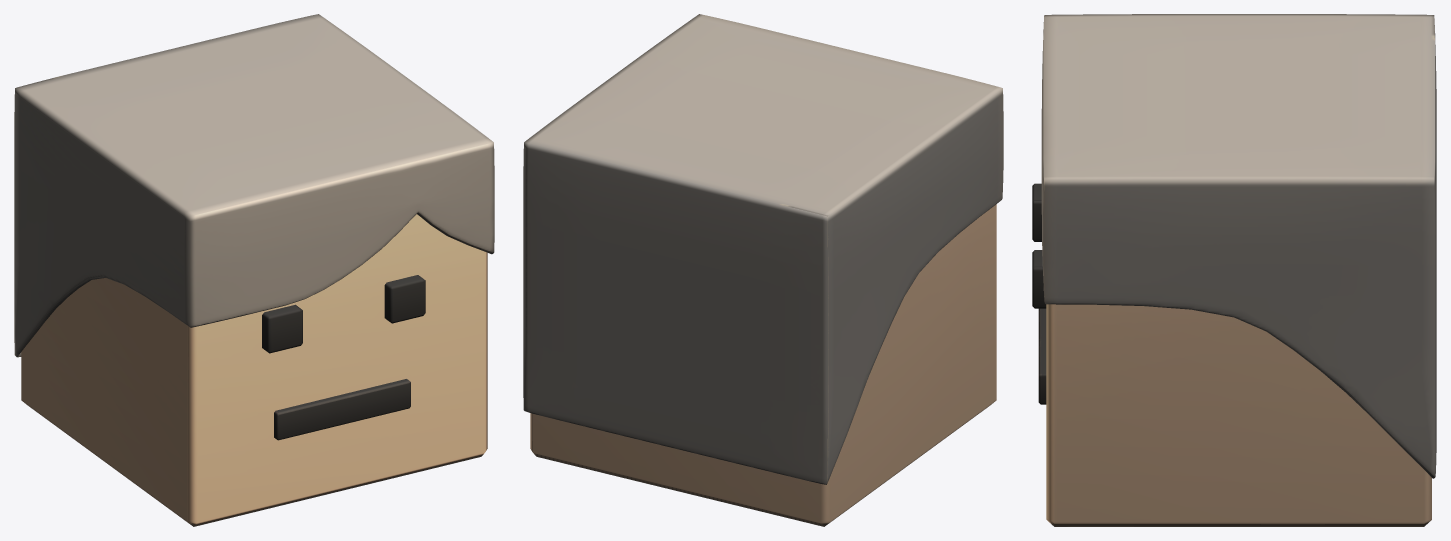
Rendered from Head_04.glb.
The picture shows the model from 3 angles, left to right: view 1: azimuth 30°, elevation 25°; view 2: azimuth 150°, elevation 25°; view 3: azimuth 270°, elevation 25°; orthographic projection. The views are drawn at different scales.
Size of the model in its own units: 1.02 by 1.01 by 1.05.
1 material, 1 textured.
